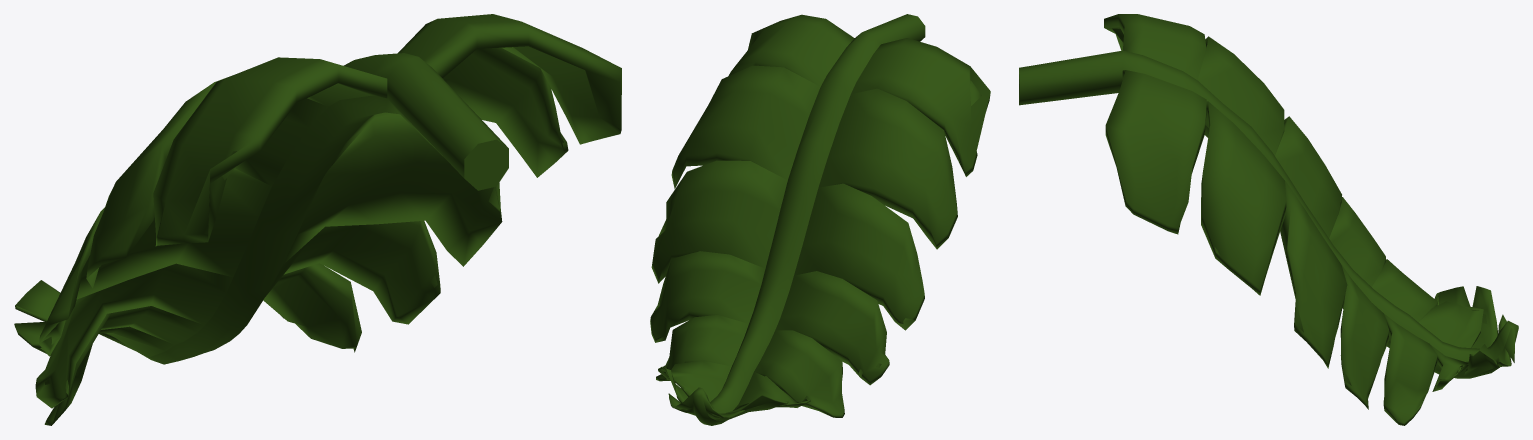
The model's file is Big_Leaf_alt.fbx.
3 views of the same model, side by side, from view 1: azimuth 30°, elevation 25°; view 2: azimuth 150°, elevation 25°; view 3: azimuth 270°, elevation 25° (orthographic). The views are drawn at different scales.
Parts seen in each view (by area): view 1: Big_Leaf_alt; view 2: Big_Leaf_alt; view 3: Big_Leaf_alt.
Boxes of the visible parts, <box> form: Big_Leaf_alt: <box>14,14,621,425</box>; Big_Leaf_alt: <box>650,14,990,425</box>; Big_Leaf_alt: <box>1019,14,1518,425</box>.
Size of the model in its own units: 101 by 101 by 138.
